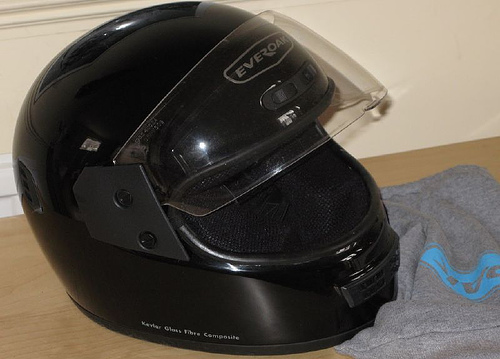helmet: (17, 6, 413, 338)
